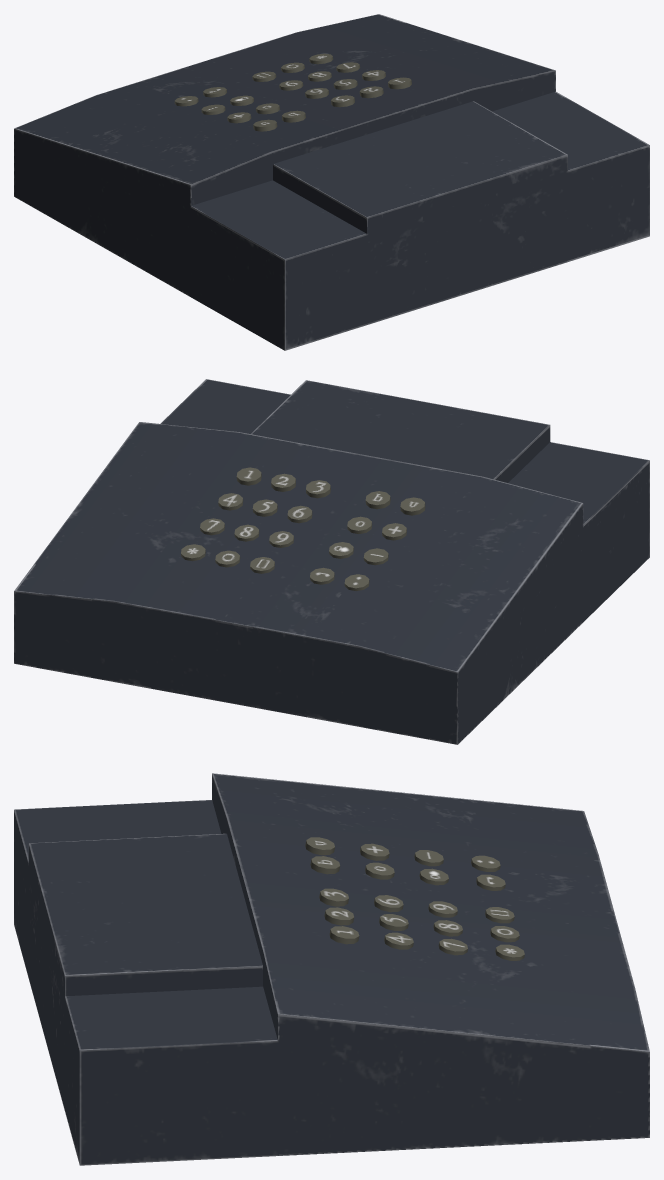
Rendered from telephone_base.gltf.
3 views of the same model, one above another, from view 1: azimuth 30°, elevation 25°; view 2: azimuth 150°, elevation 25°; view 3: azimuth 270°, elevation 25° (orthographic). The views are drawn at different scales.
Parts seen in each view (by area): view 1: Object_21; view 2: Object_21; view 3: Object_21.
Part boxes in pixels (<box>): Object_21: <box>14,14,649,350</box>; Object_21: <box>14,379,649,744</box>; Object_21: <box>14,773,649,1165</box>.
Size of the model in its own units: 1.34 by 0.3525 by 1.34.
Materials: 1 (1 with a texture image).
